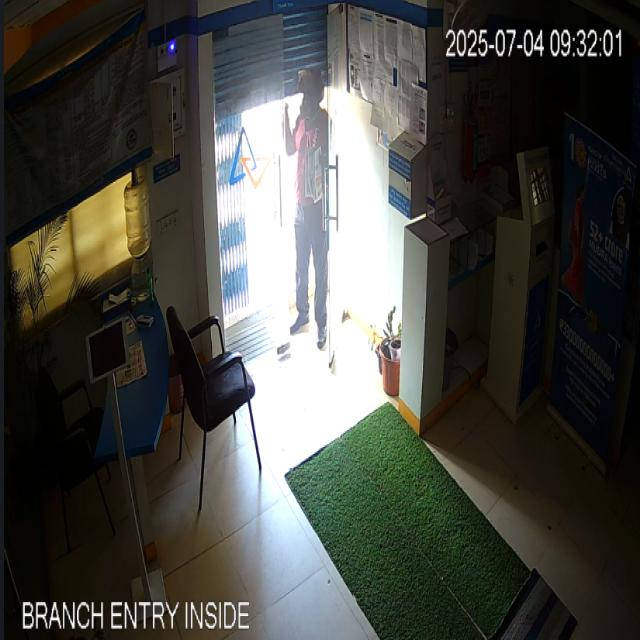helmet: (298, 66, 325, 117)
